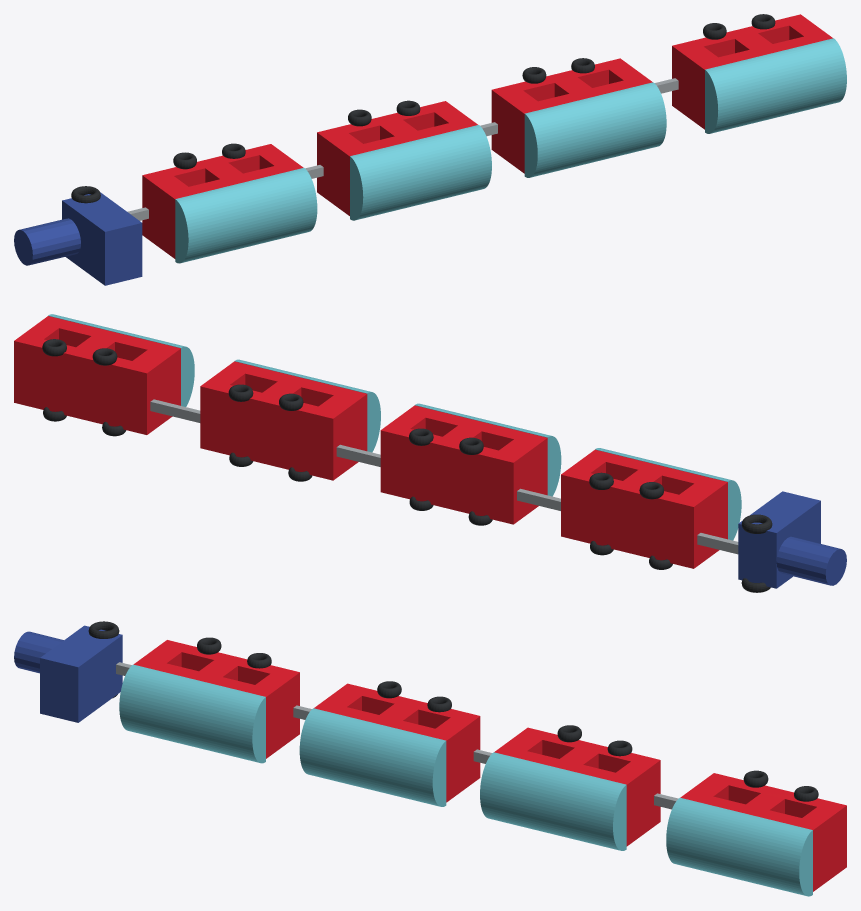
The model's file is tinker.obj.
3 renders of one model, top to bottom at view 1: azimuth 30°, elevation 25°; view 2: azimuth 150°, elevation 25°; view 3: azimuth 330°, elevation 25°, orthographic. The views are drawn at different scales.
Parts seen in each view (by area): view 1: group_0_7720667, group_0_15277357, group_0_3888547, group_0_2829873, group_0_10988977; view 2: group_0_15277357, group_0_3888547, group_0_2829873, group_0_7720667, group_0_10988977; view 3: group_0_7720667, group_0_15277357, group_0_3888547, group_0_2829873, group_0_10988977.
Boxes of the visible parts, x1,y1,x2,y2 form: group_0_7720667: (175,38,846,263); group_0_15277357: (142,14,832,258); group_0_3888547: (14,192,142,285); group_0_2829873: (71,14,775,203); group_0_10988977: (127,78,678,220); group_0_15277357: (14,316,727,568); group_0_3888547: (738,491,846,588); group_0_2829873: (42,339,772,592); group_0_7720667: (48,314,741,540); group_0_10988977: (150,399,738,554); group_0_7720667: (119,664,812,896); group_0_15277357: (133,640,846,891); group_0_3888547: (14,625,122,722); group_0_2829873: (88,621,818,801); group_0_10988977: (116,662,678,809).
Bounding box in the file's own units: 275 × 25.27 × 31.
